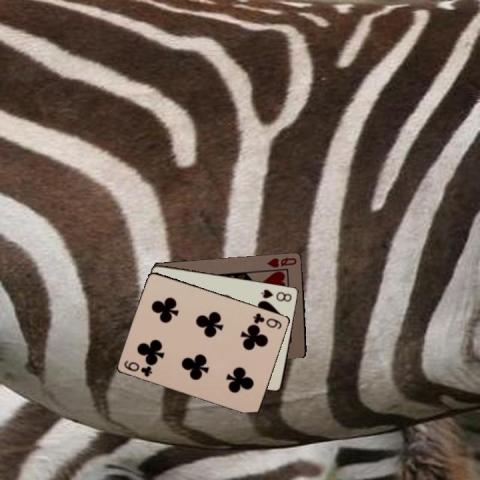6c: (250, 310, 283, 331), (121, 357, 154, 378)
8s: (258, 286, 293, 303)
Qh: (264, 254, 298, 269)
